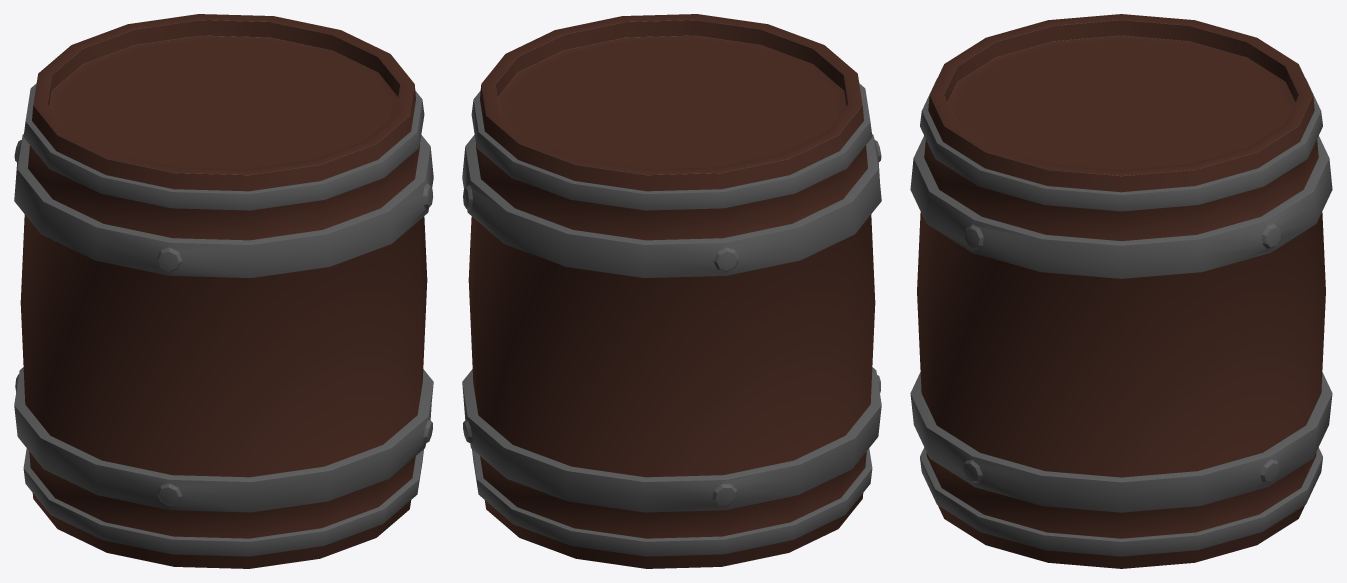
File: LP_P_Barrel2.fbx
3 renders of one model, left to right at view 1: azimuth 30°, elevation 25°; view 2: azimuth 150°, elevation 25°; view 3: azimuth 270°, elevation 25°, orthographic.
Parts seen in each view (by area): view 1: LP_P_Barrel; view 2: LP_P_Barrel; view 3: LP_P_Barrel.
Boxes of the visible parts, left/top/right/bottom form: LP_P_Barrel: left=14, top=14, right=433, bottom=568; LP_P_Barrel: left=462, top=14, right=881, bottom=568; LP_P_Barrel: left=910, top=14, right=1332, bottom=568.
Size of the model in its own units: 129 by 132 by 129.
